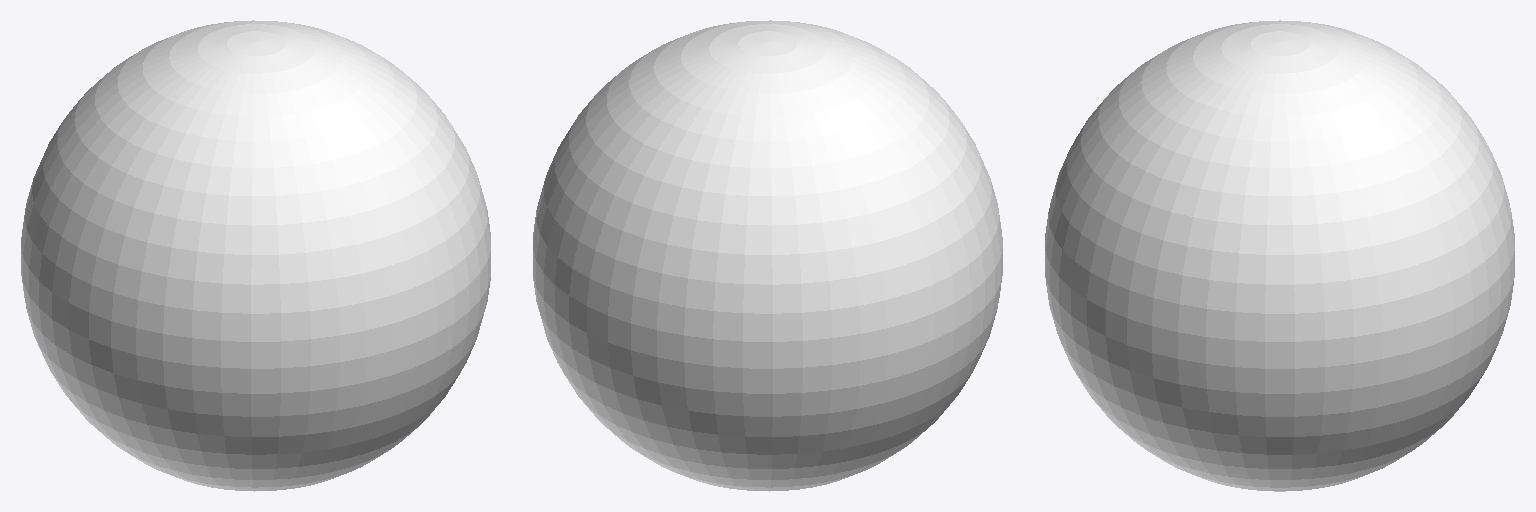
URDF robot description (perfect_sphere):
<?xml version="1.0" encoding="utf-8"?>
<!-- This URDF was automatically created by SolidWorks to URDF Exporter! Originally created by [author] ([email redacted]) 
     Commit Version: 1.5.1-0-g916b5db  Build Version: 1.5.7152.31018
     For more information, please see http://wiki.ros.org/sw_urdf_exporter -->
<robot
  name="perfect_sphere">
  <link
    name="elipsoid">
    <inertial>
      <origin
        xyz="5.7405E-19 1.53075794227797E-18 0.025"
        rpy="0 0 0" />
      <mass
        value="0.066759" />
      <inertia
        ixx="1.669E-05"
        ixy="0"
        ixz="0"
        iyy="1.669E-05"
        iyz="0"
        izz="1.669E-05" />
    </inertial>
    <visual>
      <origin
        xyz="0 0 0"
        rpy="1.5707963267949 0 0" />
      <geometry>
        <mesh
          filename="package://elipsoid/meshes/elipsoid.STL" />
      </geometry>
      <material
        name="">
        <color
          rgba="1 1 1 1" />
        <texture
          filename="package://elipsoid/textures/" />
      </material>
    </visual>
    <collision>
      <origin
        xyz="0 0 0"
        rpy="1.5707963267949 0 0" />
      <geometry>
        <mesh
          filename="package://elipsoid/meshes/elipsoid.STL" />
      </geometry>
    </collision>
  </link>
</robot>

--- What the picture shows (computed from the rendered views, not written in the file) ---
3 views of the same robot in one strip: view 1: azimuth 30°, elevation 25°; view 2: azimuth 150°, elevation 25°; view 3: azimuth 270°, elevation 25° (orthographic).
Robot: perfect_sphere — 1 links, 0 joints (none); root link elipsoid; default pose: all joints at 0.
Links seen in each view (by area): view 1: elipsoid; view 2: elipsoid; view 3: elipsoid.
Link boxes in pixels (x1,y1,x2,y2): elipsoid: (21,20,490,491); elipsoid: (533,20,1002,491); elipsoid: (1045,20,1514,491).
Size in the robot's own frame: 0.0499 by 0.0499 by 0.05 metres.
Meshes: 1 distinct files referenced, 1 mesh visuals loaded (1 binary STL).